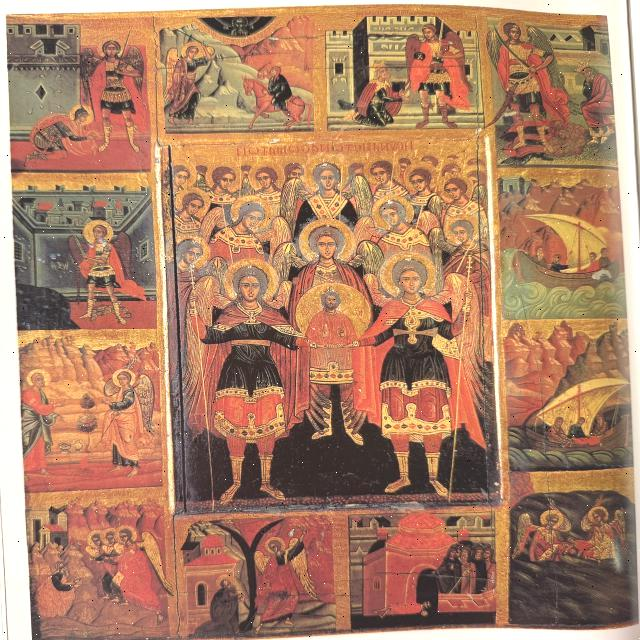angel: (367, 257, 489, 481), (184, 253, 294, 501), (482, 22, 572, 152), (67, 31, 159, 157), (59, 217, 149, 317), (251, 524, 332, 634), (405, 21, 477, 133), (265, 220, 383, 285), (89, 366, 165, 464), (273, 159, 380, 217), (349, 200, 449, 254), (199, 198, 293, 252), (160, 42, 221, 125), (121, 523, 171, 605), (572, 506, 634, 566), (513, 506, 573, 566), (85, 523, 107, 601), (105, 525, 126, 593)
wing: (444, 272, 492, 415), (183, 276, 228, 410), (137, 525, 179, 603), (289, 537, 321, 603), (66, 48, 104, 101), (525, 23, 565, 69), (132, 372, 156, 434), (349, 238, 387, 274), (277, 178, 312, 216), (346, 175, 378, 215), (513, 512, 540, 558), (126, 45, 148, 97), (161, 47, 182, 99), (277, 243, 312, 273), (198, 207, 228, 241), (115, 232, 139, 273), (446, 29, 470, 69), (483, 27, 503, 73), (261, 219, 297, 244), (415, 210, 443, 241), (403, 36, 423, 79), (352, 217, 386, 242), (66, 234, 91, 266), (615, 508, 631, 548), (252, 551, 274, 575), (99, 380, 123, 399), (80, 545, 104, 561), (111, 543, 132, 557), (581, 514, 593, 531), (102, 545, 113, 557), (560, 520, 571, 532)
